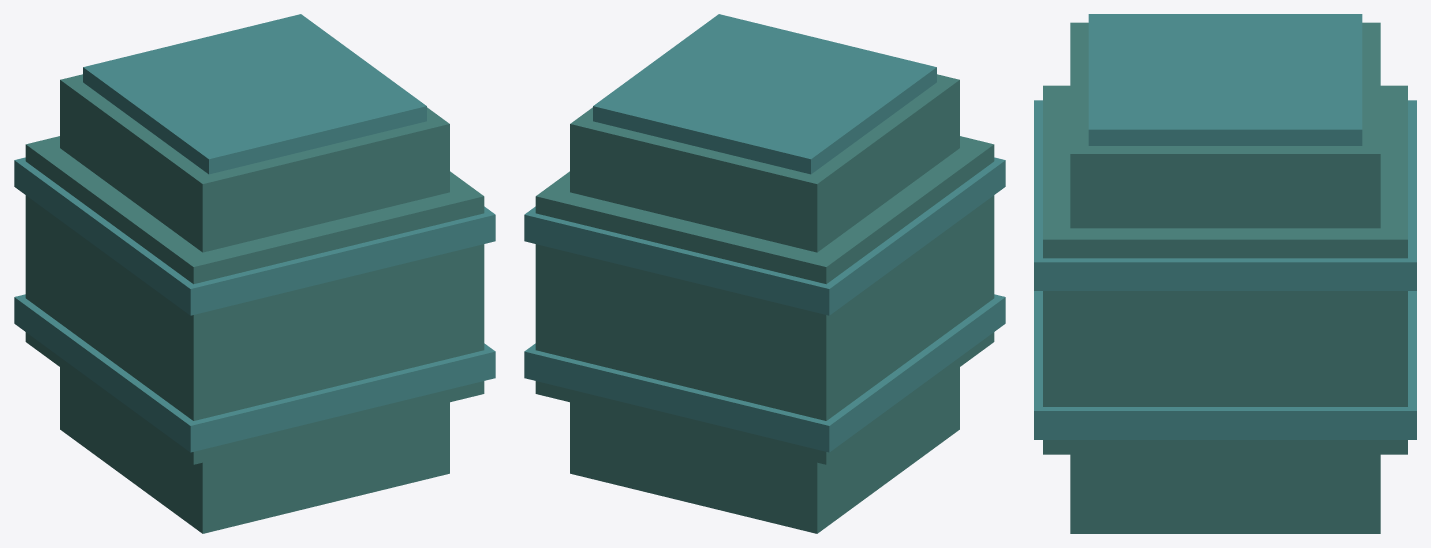
Rendered from barrel.glb.
3 views of the same model, side by side, from view 1: azimuth 30°, elevation 25°; view 2: azimuth 150°, elevation 25°; view 3: azimuth 270°, elevation 25° (orthographic). The views are drawn at different scales.
Parts seen in each view (by area): view 1: barrel; view 2: barrel; view 3: barrel.
Part boxes in pixels (x1=…): barrel: x1=14, y1=14, x2=495, y2=533; barrel: x1=524, y1=14, x2=1005, y2=533; barrel: x1=1034, y1=14, x2=1416, y2=533.
Size of the model in its own units: 0.84 by 0.96 by 0.84.
